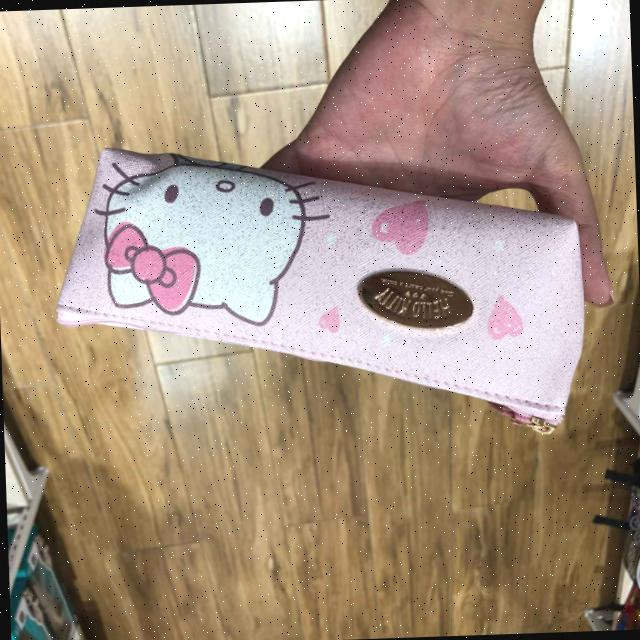handbag: (39, 123, 604, 461)
